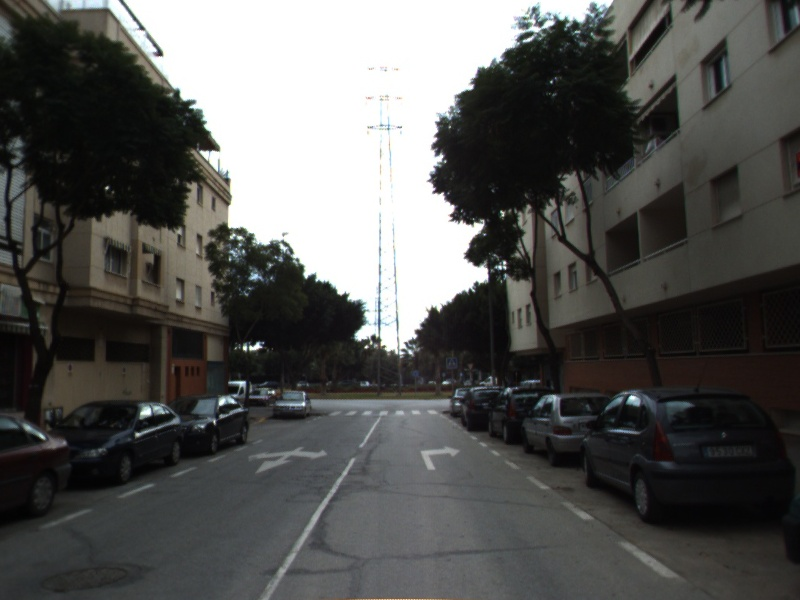RIGHT: (419, 444, 463, 472)
